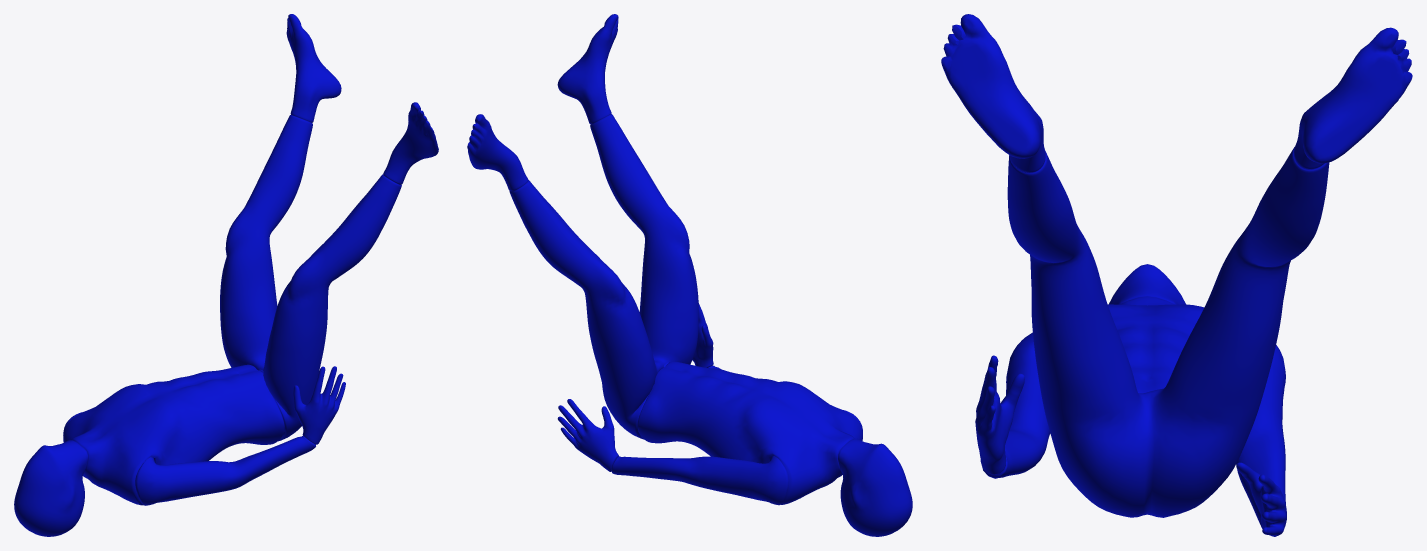
File: PersoSalon2.obj
The picture shows the model from 3 angles, left to right: view 1: azimuth 30°, elevation 25°; view 2: azimuth 150°, elevation 25°; view 3: azimuth 270°, elevation 25°; orthographic projection. The views are drawn at different scales.
Parts seen in each view (by area): view 1: Ch36.003_Mesh.003; view 2: Ch36.003_Mesh.003; view 3: Ch36.003_Mesh.003.
Boxes of the visible parts, x1=… form: Ch36.003_Mesh.003: x1=14, y1=14, x2=438, y2=536; Ch36.003_Mesh.003: x1=467, y1=14, x2=912, y2=536; Ch36.003_Mesh.003: x1=941, y1=14, x2=1412, y2=536.
Bounding box in the file's own units: 1.97 × 1.94 × 1.28.
